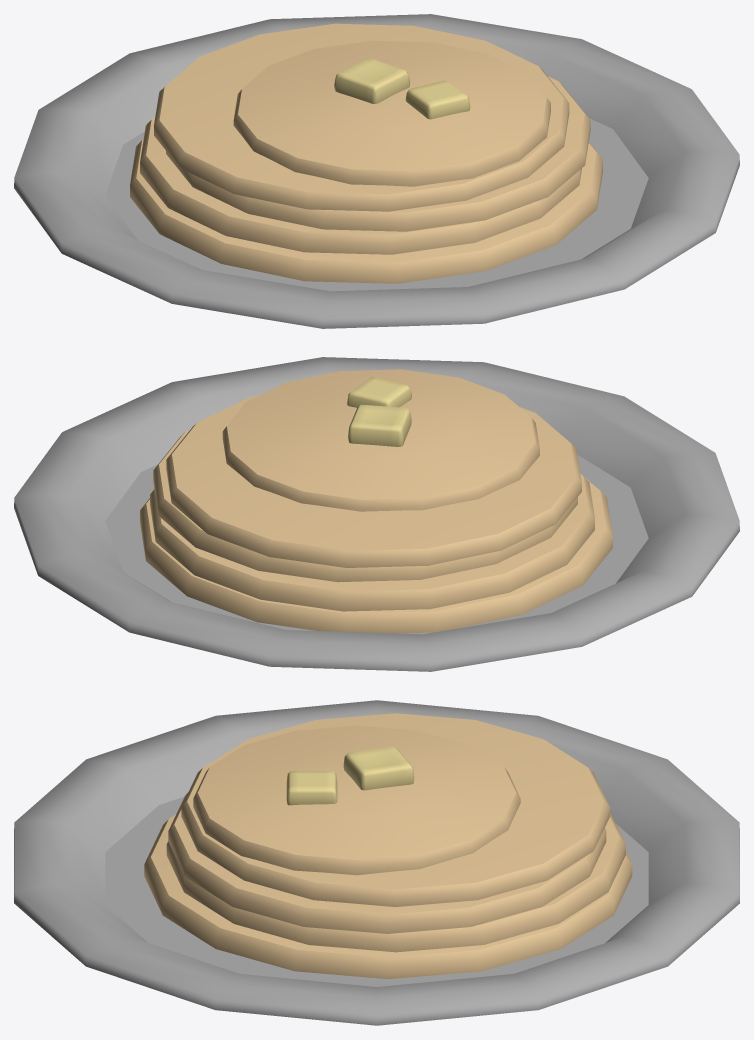
The model's file is pancakeDish.fbx.
3 views of the same model, one above another, from view 1: azimuth 30°, elevation 25°; view 2: azimuth 150°, elevation 25°; view 3: azimuth 270°, elevation 25° (orthographic). The views are drawn at different scales.
Visible parts, largest first — view 1: plate, pancakes, pancake, butter; view 2: pancakes, plate, pancake, butter; view 3: plate, pancakes, pancake, butter.
Part boxes in pixels (x1,y1,x2,y2): plate: (14, 14, 739, 328); pancakes: (140, 23, 590, 254); pancake: (130, 139, 602, 283); butter: (334, 57, 470, 119); pancakes: (150, 369, 594, 611); plate: (14, 357, 739, 671); pancake: (140, 478, 612, 633); butter: (347, 377, 411, 446); plate: (14, 700, 739, 1025); pancakes: (166, 713, 625, 952); pancake: (144, 814, 632, 979); butter: (286, 745, 414, 805).
Bounding box in the file's own units: 151 × 33.21 × 147.
